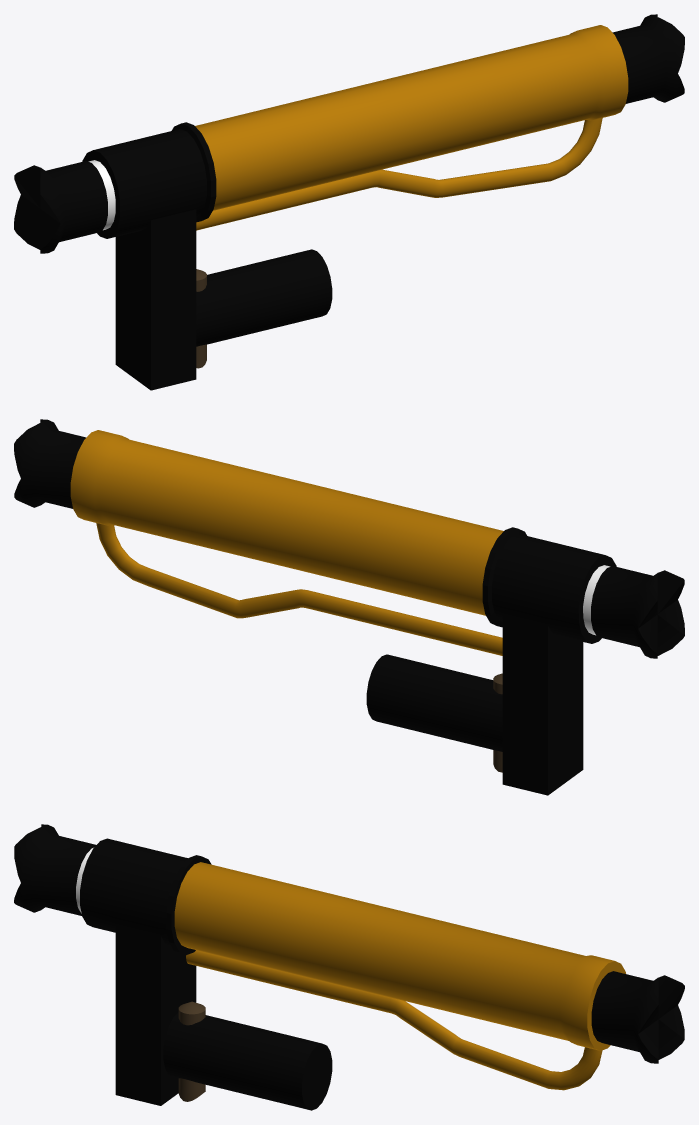
3 views of the same model, one above another, from view 1: azimuth 30°, elevation 25°; view 2: azimuth 150°, elevation 25°; view 3: azimuth 330°, elevation 25° (orthographic).
Visible parts, largest first — view 1: Upper, Handle, Extension, Connector, Tail, Head; view 2: Upper, Handle, Extension, Connector, Tail, Head; view 3: Upper, Handle, Extension, Connector, Head, Tail, Gear.
Boxes of the visible parts, <box> form: Upper: <box>312,25,628,202</box>; Handle: <box>82,122,216,390</box>; Extension: <box>195,97,340,230</box>; Connector: <box>196,249,332,346</box>; Tail: <box>14,160,115,253</box>; Head: <box>612,14,684,103</box>; Upper: <box>70,430,383,622</box>; Handle: <box>482,527,616,795</box>; Extension: <box>358,502,503,655</box>; Connector: <box>366,654,502,751</box>; Tail: <box>583,565,684,658</box>; Head: <box>14,419,86,508</box>; Upper: <box>302,893,625,1090</box>; Handle: <box>80,838,211,1105</box>; Extension: <box>174,862,330,998</box>; Connector: <box>163,1012,332,1110</box>; Head: <box>591,971,684,1063</box>; Tail: <box>14,824,95,915</box>; Gear: <box>178,1001,205,1101</box>.
Size of the model in its own units: 53.39 by 18.81 by 6.41.
